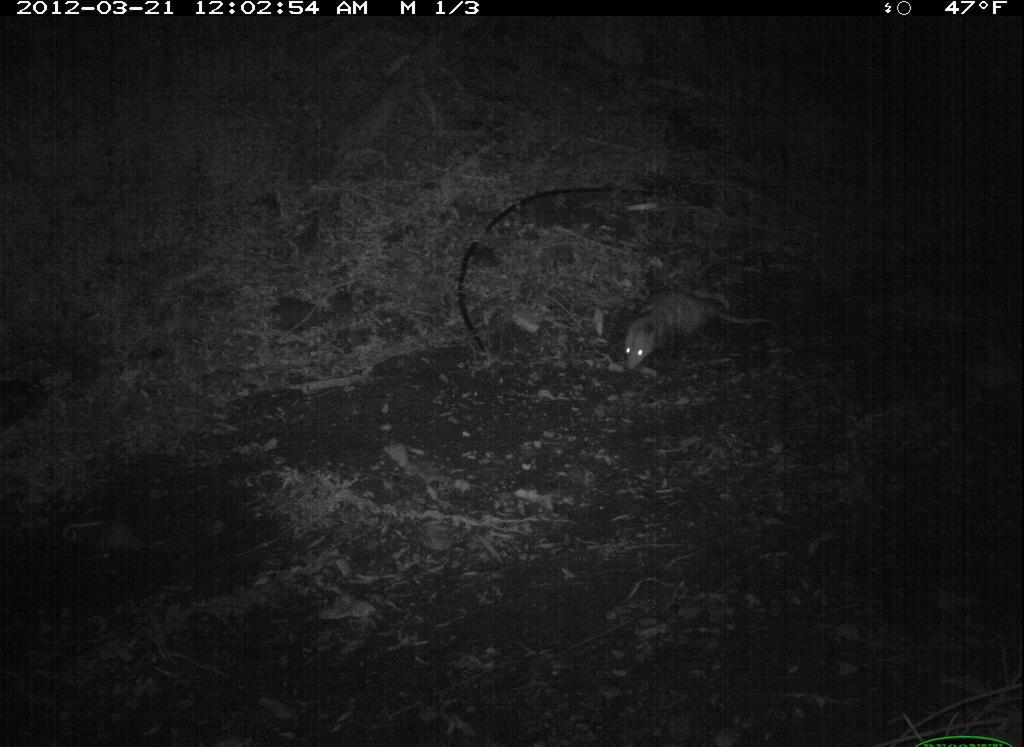opossum: (612, 276, 776, 370)
